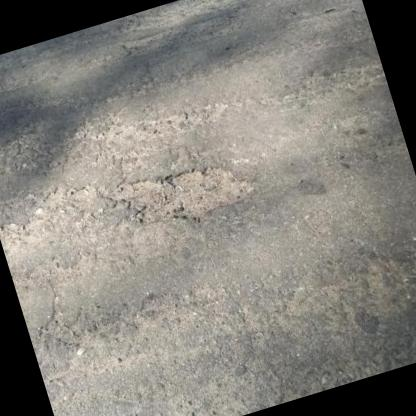pothole: (102, 144, 259, 245)
